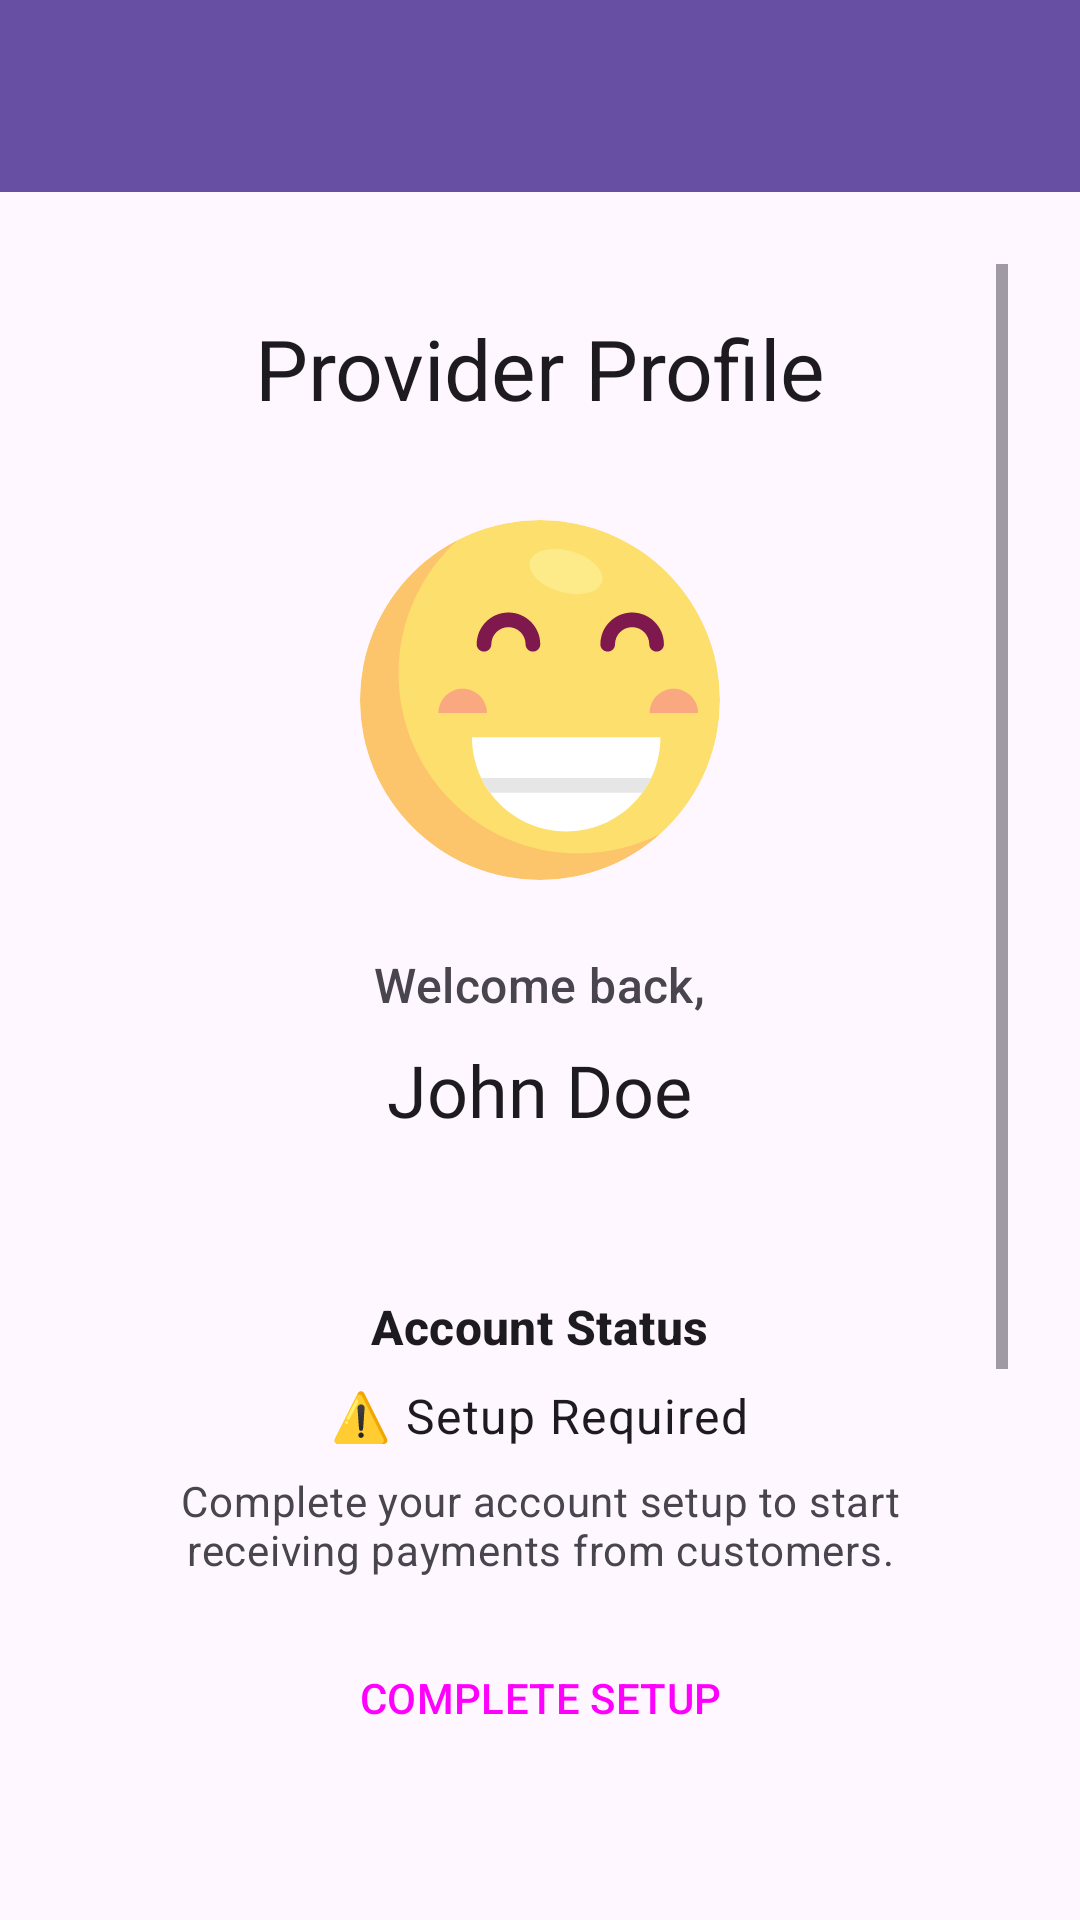

Where to tap for icons on this 1080 x 1920 app screen, as (x=x, y=y):
happy: (x=540, y=700)
